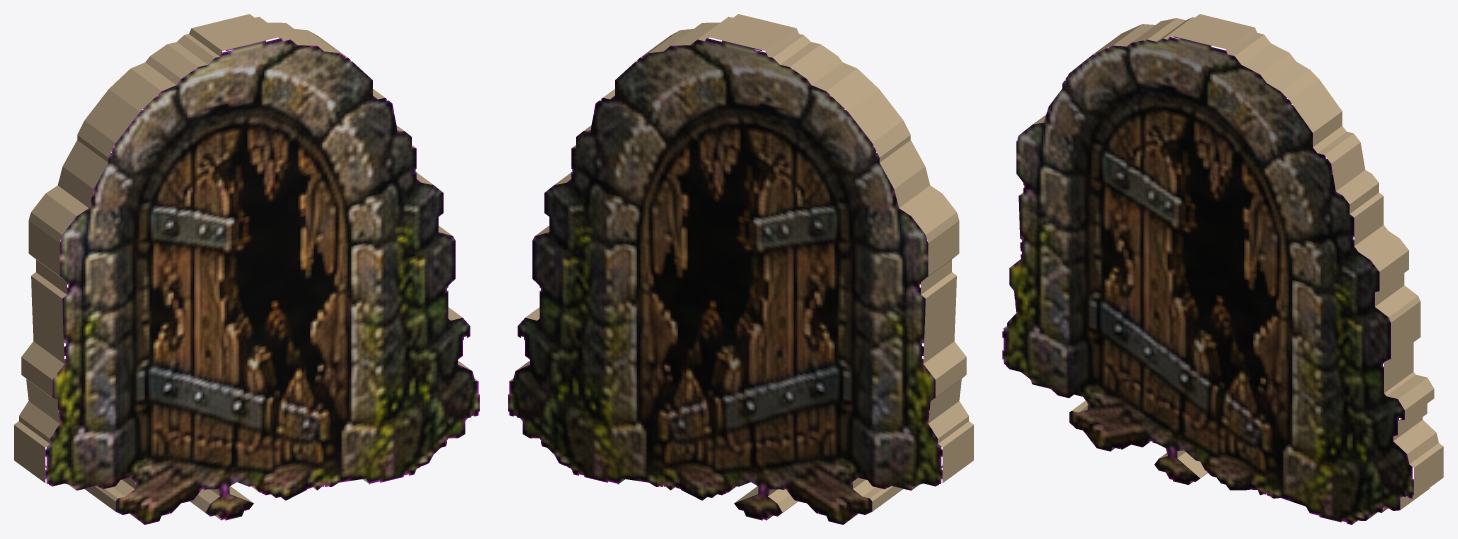
The model's file is fantasy-obj-door-broken-alt.glb.
3 renders of one model, left to right at view 1: azimuth 30°, elevation 25°; view 2: azimuth 150°, elevation 25°; view 3: azimuth 330°, elevation 25°, orthographic. The views are drawn at different scales.
Parts seen in each view (by area): view 1: painted-faces, side-shell; view 2: painted-faces, side-shell; view 3: painted-faces, side-shell.
Boxes of the visible parts, x1,y1,x2,y2 form: painted-faces: (45, 38, 479, 524); side-shell: (14, 14, 478, 522); painted-faces: (508, 38, 942, 524); side-shell: (509, 14, 973, 522); painted-faces: (1002, 36, 1413, 524); side-shell: (1003, 14, 1443, 524).
Size of the model in its own units: 0.9676 by 1 by 0.12.
2 materials, 1 textured.
